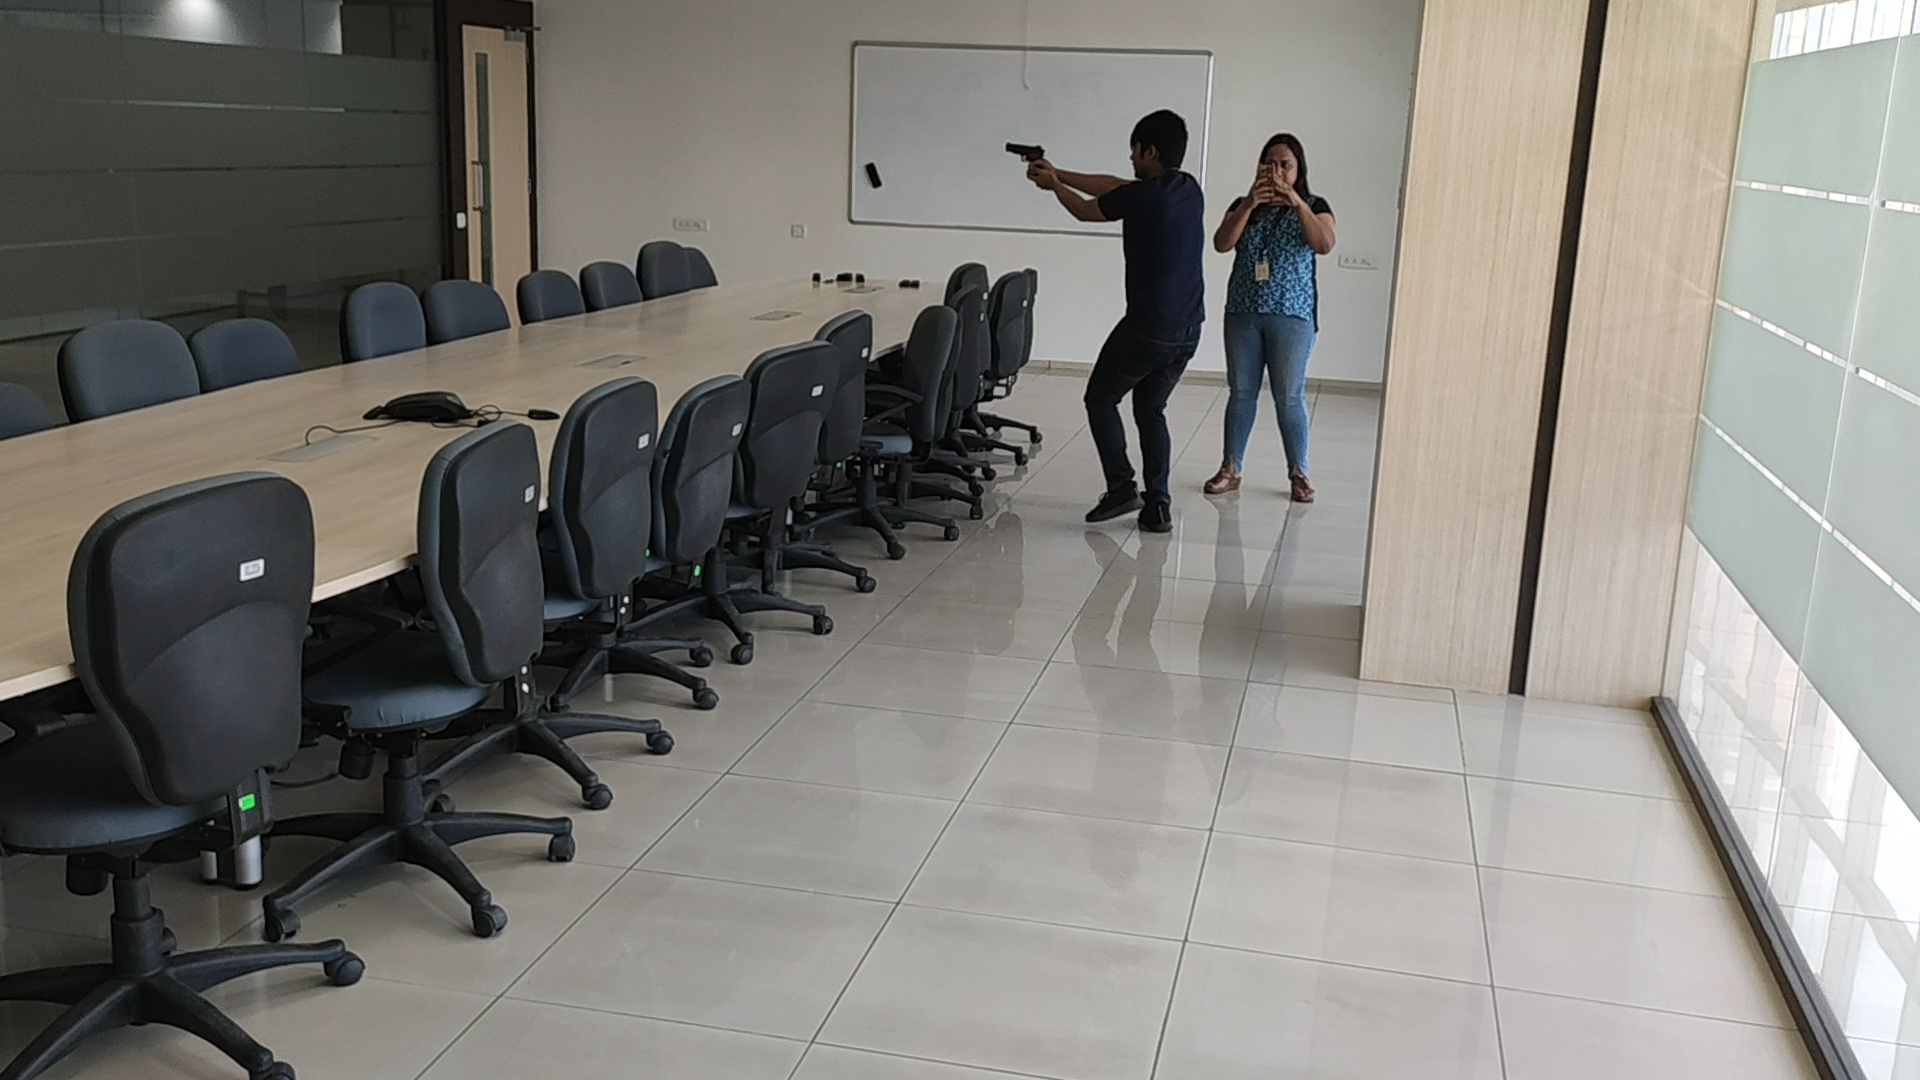gun: (1002, 140, 1044, 165)
